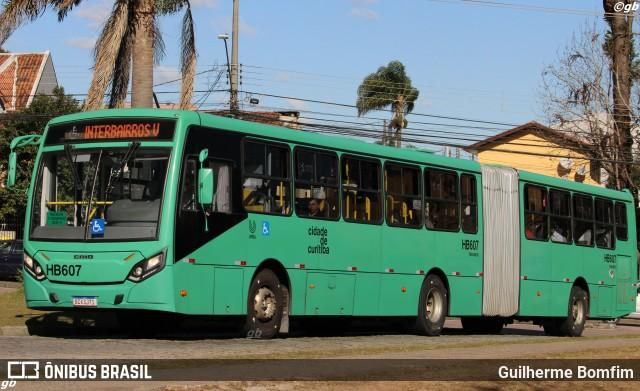INTERBAIRROS V: (81, 121, 163, 142)
